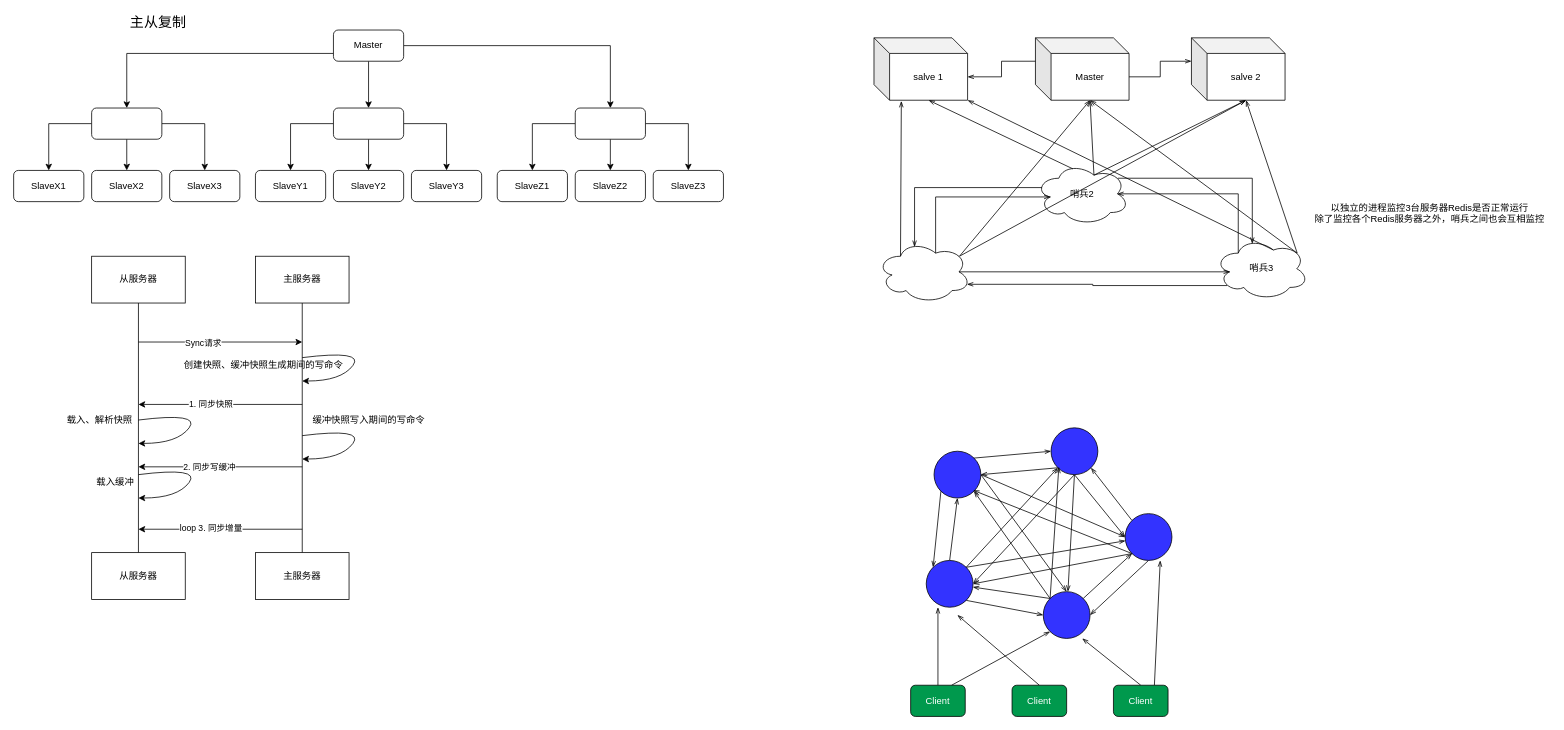
Some shapes in this 1564 by 730 pixel diagram are drawn without their labels. Each missing label, with the centre of its shape:
SlaveX: (126,123)
SlaveY: (368,123)
SlaveZ: (609,123)
哨兵1: (923,271)
